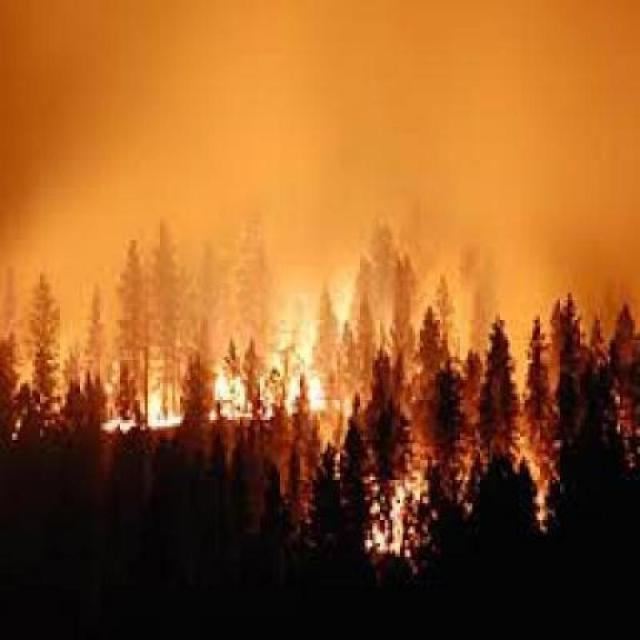Fire: (81, 342, 468, 568)
